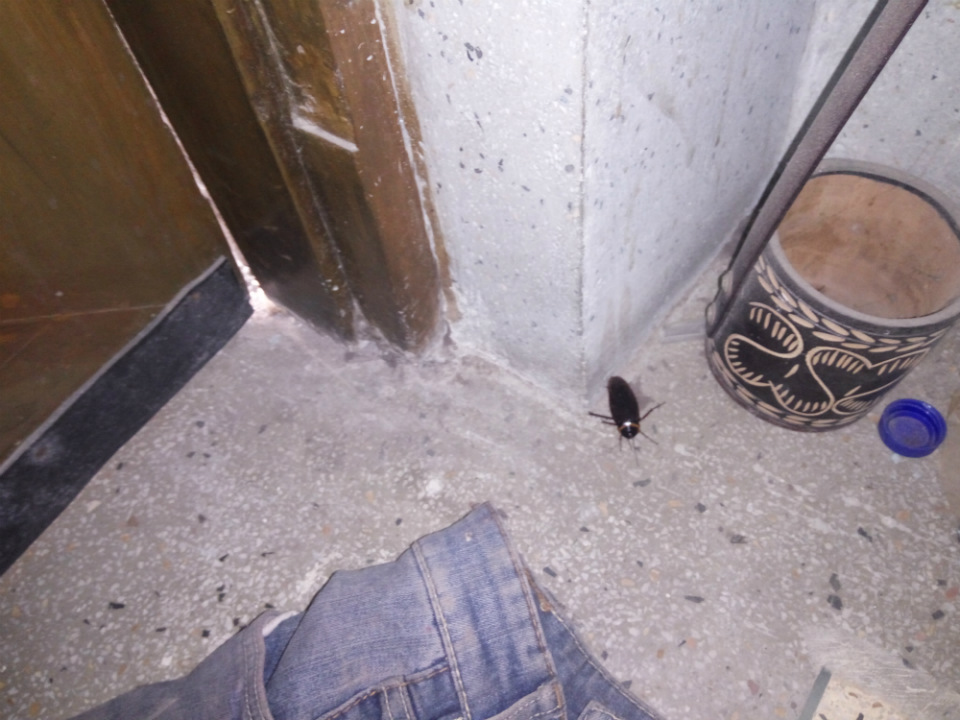cockroach: (566, 369, 683, 467)
